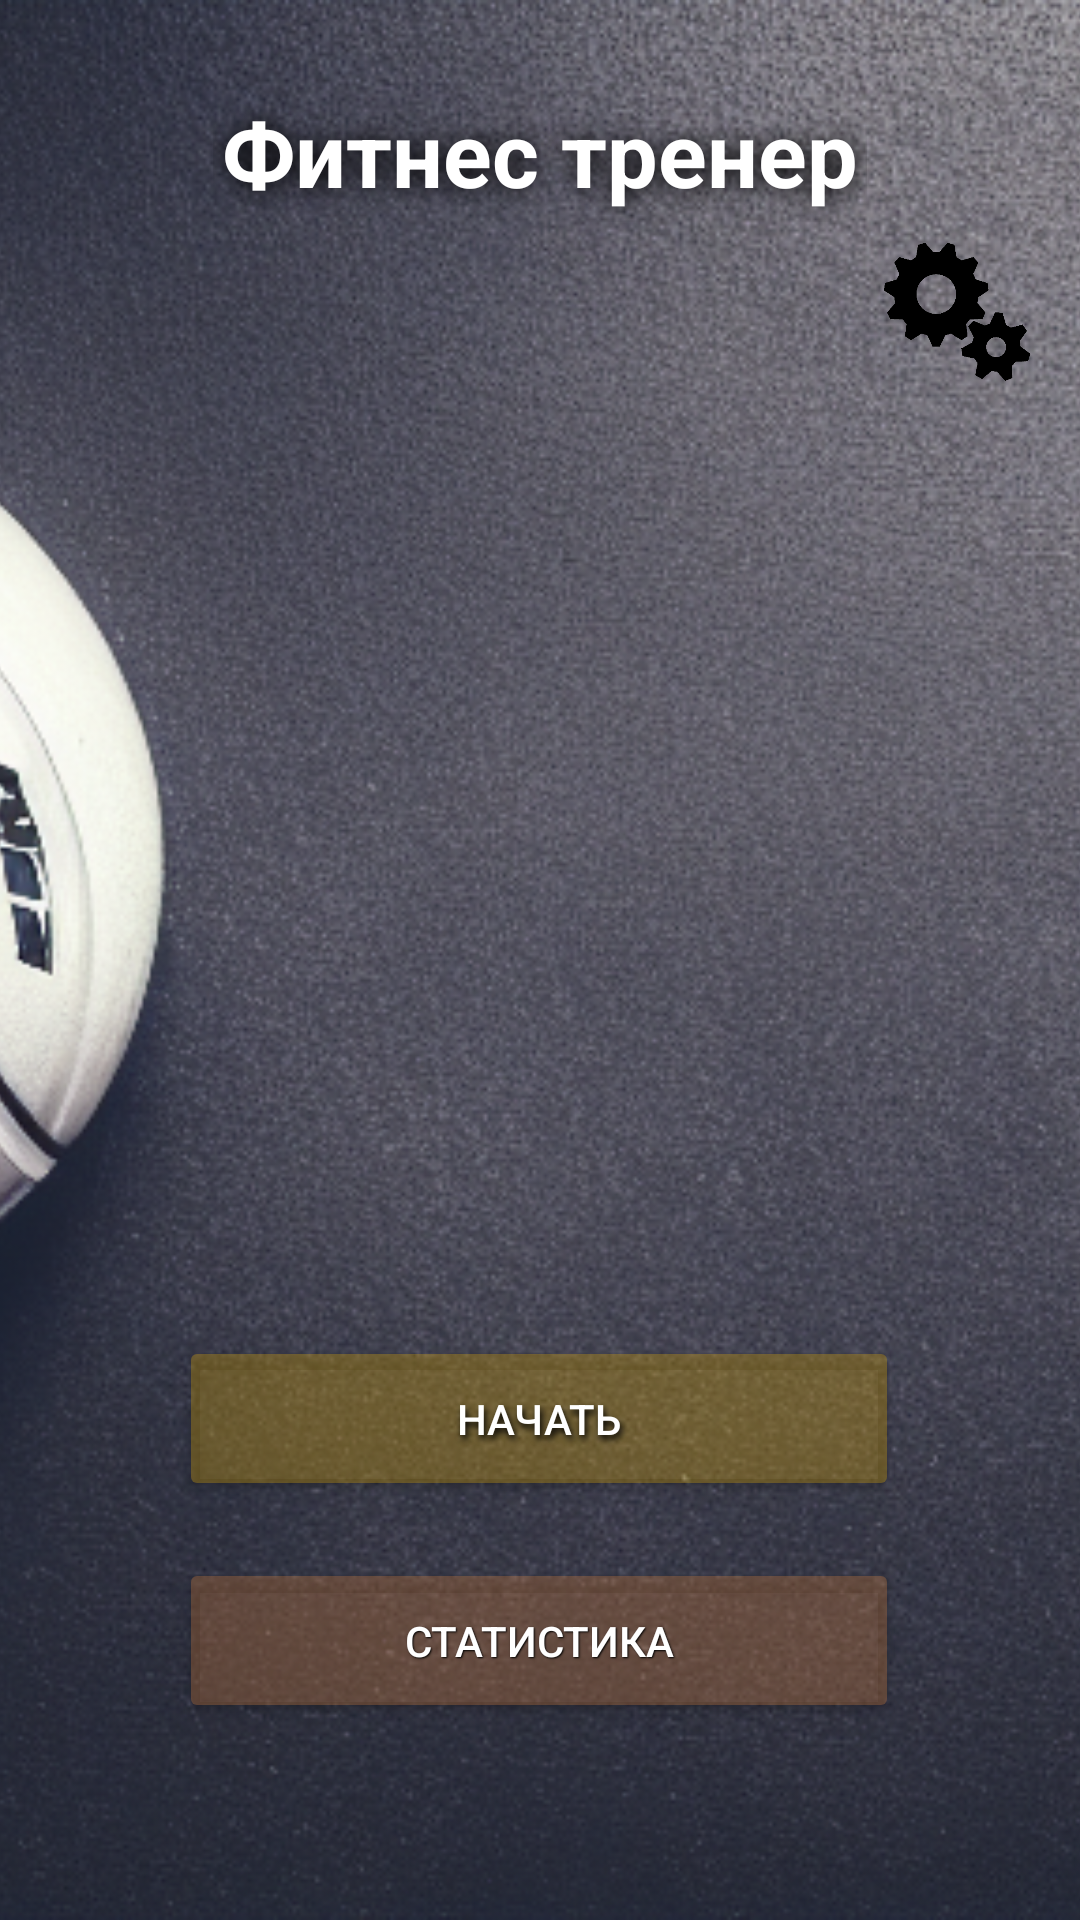

Named icons in this screenshot (1080*1920) and their bounding boxes, detection(x1, y1, x2, y2):
gear: detection(882, 237, 1031, 387)
